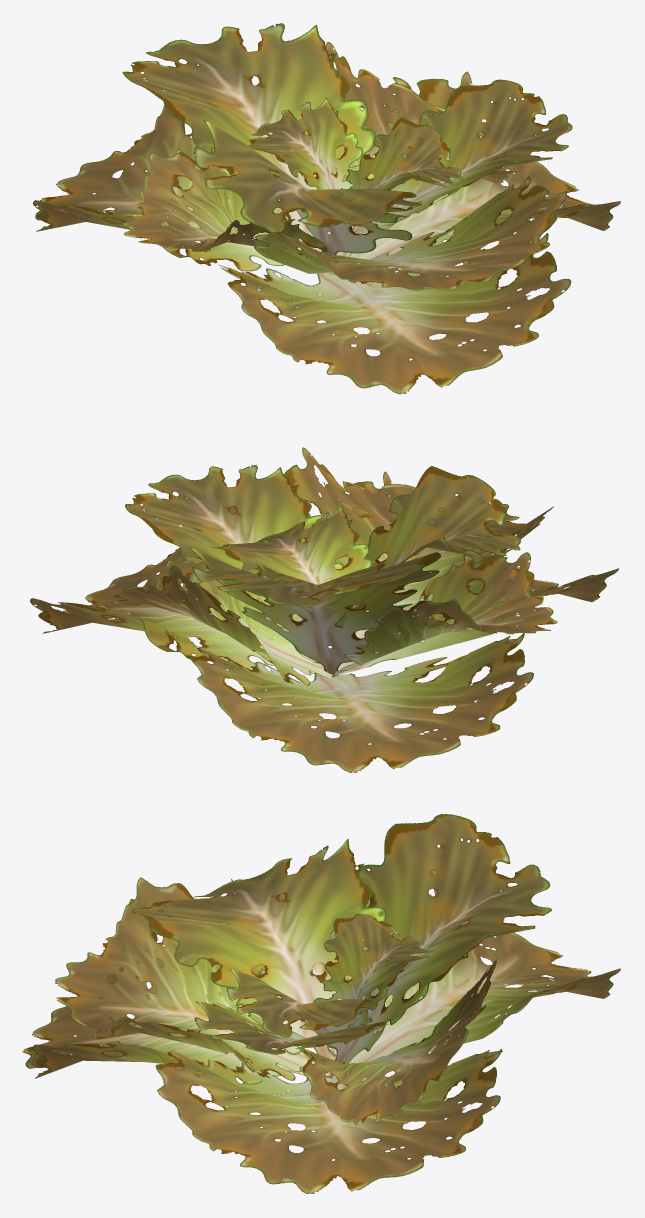
The model's file is plant_lettuce_S4.fbx.
3 views of the same model, one above another, from view 1: azimuth 30°, elevation 25°; view 2: azimuth 150°, elevation 25°; view 3: azimuth 270°, elevation 25° (orthographic).
Visible parts, largest first — view 1: plant_lettuce_S4; view 2: plant_lettuce_S4; view 3: plant_lettuce_S4.
Part boxes in pixels (x1,y1,x2,y2): plant_lettuce_S4: [33, 23, 620, 394]; plant_lettuce_S4: [30, 447, 618, 772]; plant_lettuce_S4: [22, 814, 620, 1193].
Bounding box in the file's own units: 0.3584 × 0.1252 × 0.3529.
